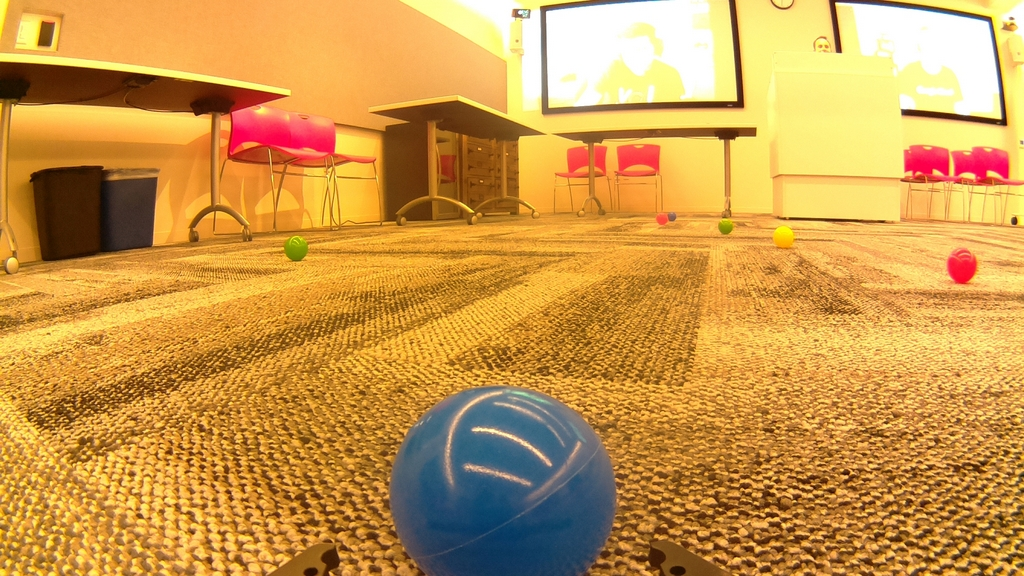ball: (774, 228, 793, 250)
